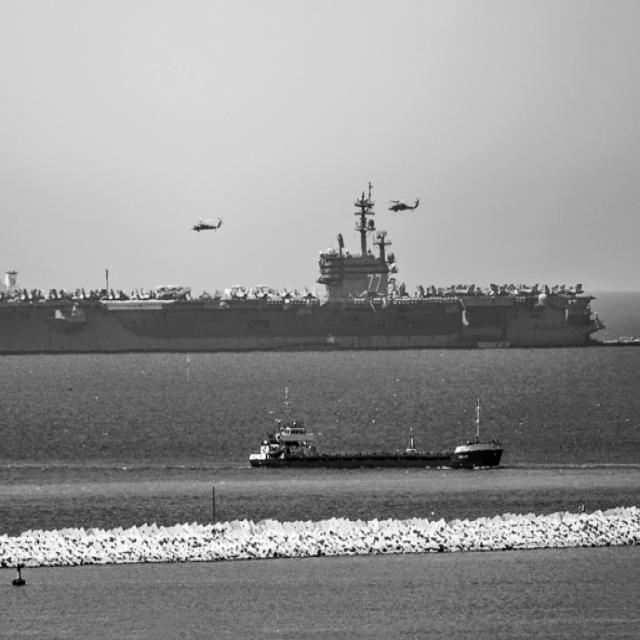Portanaves: (1, 182, 613, 363)
